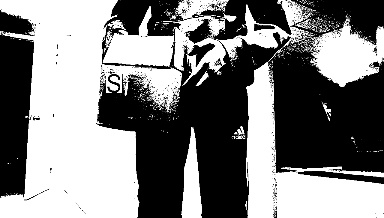S: (104, 71, 123, 91)
